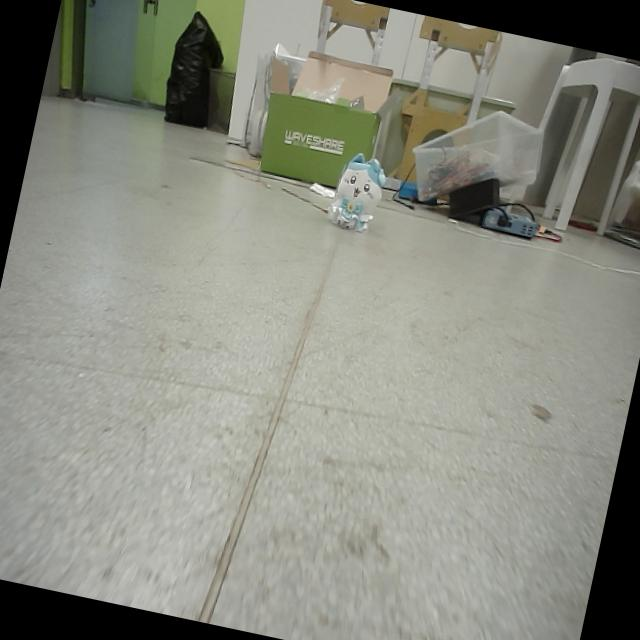xiaoba: (324, 144, 390, 236)
